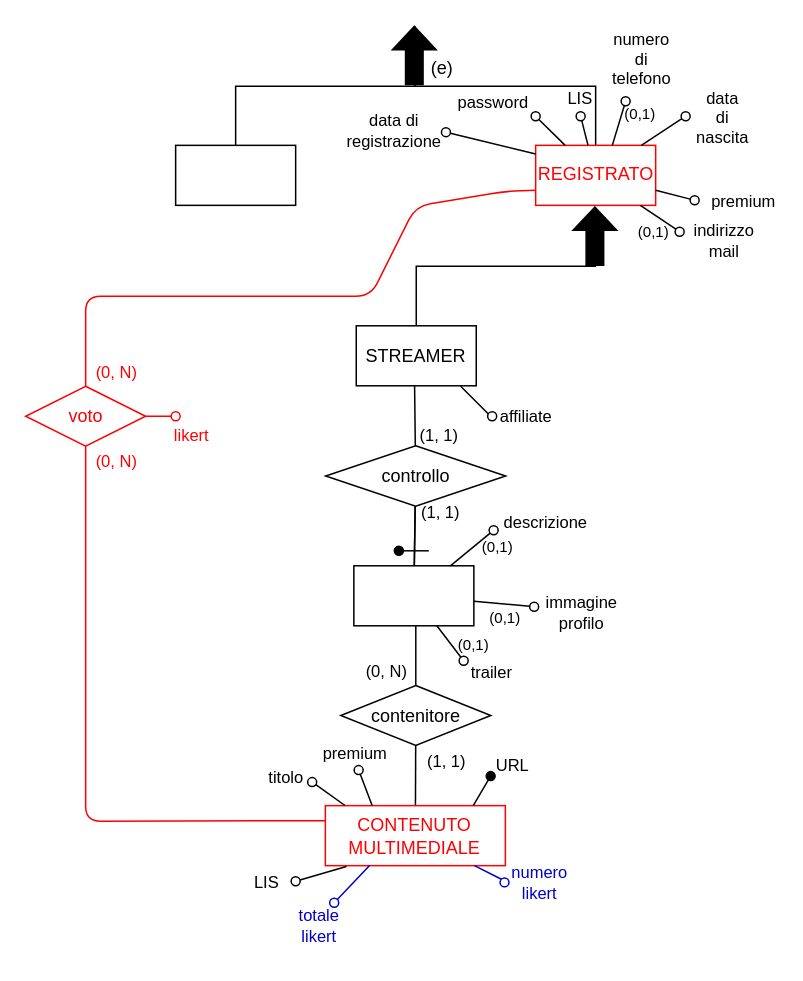
This 803x981 diagram has some shape labels left out. Each missing label, with the centre of its shape:
(s): the point at 594,235
CANALE: the point at 413,595
GUEST: the point at 235,174
